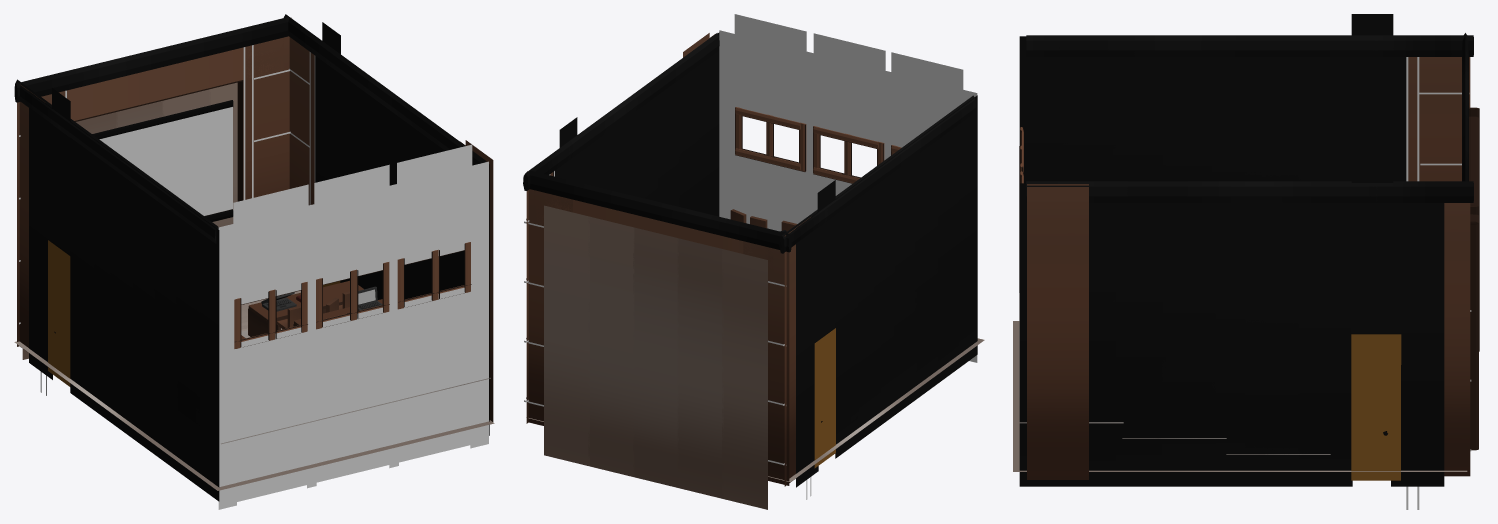
Rendered from School.fbx.
3 views of the same model, side by side, from view 1: azimuth 30°, elevation 25°; view 2: azimuth 150°, elevation 25°; view 3: azimuth 270°, elevation 25° (orthographic). The views are drawn at different scales.
Visible parts, largest first — view 1: Wall2, Wall3, Wall, Floor, Window, Screen, wallLine, Desk, Notebook, Chair; view 2: Wall2, Screen, Wall3, Wall, Window, Floor; view 3: Wall2, Wall, Floor, wallLine.
Boxes of the visible parts, box(x1,y1,x2,y2) form: Wall2: box(14, 14, 489, 501); Wall3: box(218, 144, 488, 509); Wall: box(17, 17, 493, 421); Floor: box(14, 100, 494, 490); Window: box(234, 242, 471, 348); Screen: box(22, 82, 237, 359); wallLine: box(19, 45, 315, 395); Desk: box(241, 280, 382, 339); Notebook: box(261, 286, 382, 311); Chair: box(276, 289, 360, 330); Wall2: box(523, 32, 977, 487); Screen: box(544, 205, 767, 509); Wall3: box(719, 14, 977, 362); Wall: box(526, 33, 810, 486); Window: box(735, 107, 901, 183); Floor: box(526, 338, 984, 482); Wall2: box(1019, 14, 1473, 486); Wall: box(1027, 57, 1479, 479); Floor: box(1013, 321, 1467, 471); wallLine: box(1406, 57, 1471, 509).
Size of the model in its own units: 16.37 by 17.57 by 21.22.
